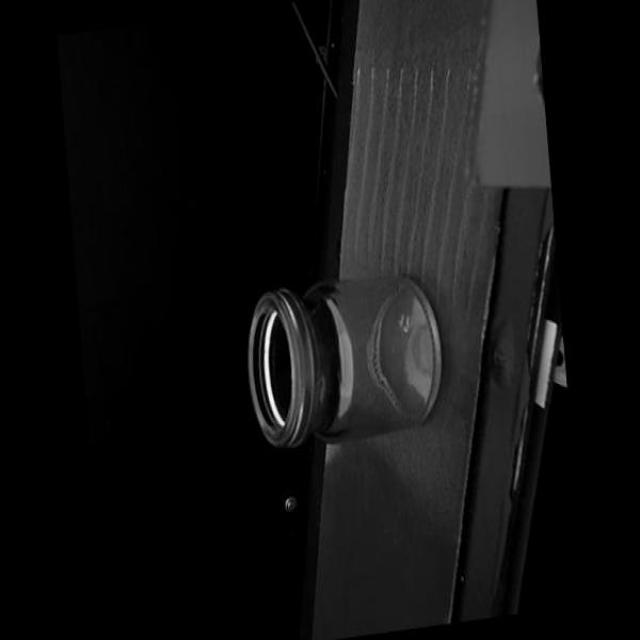defect: (334, 369, 341, 381)
glass: (240, 262, 449, 459)
